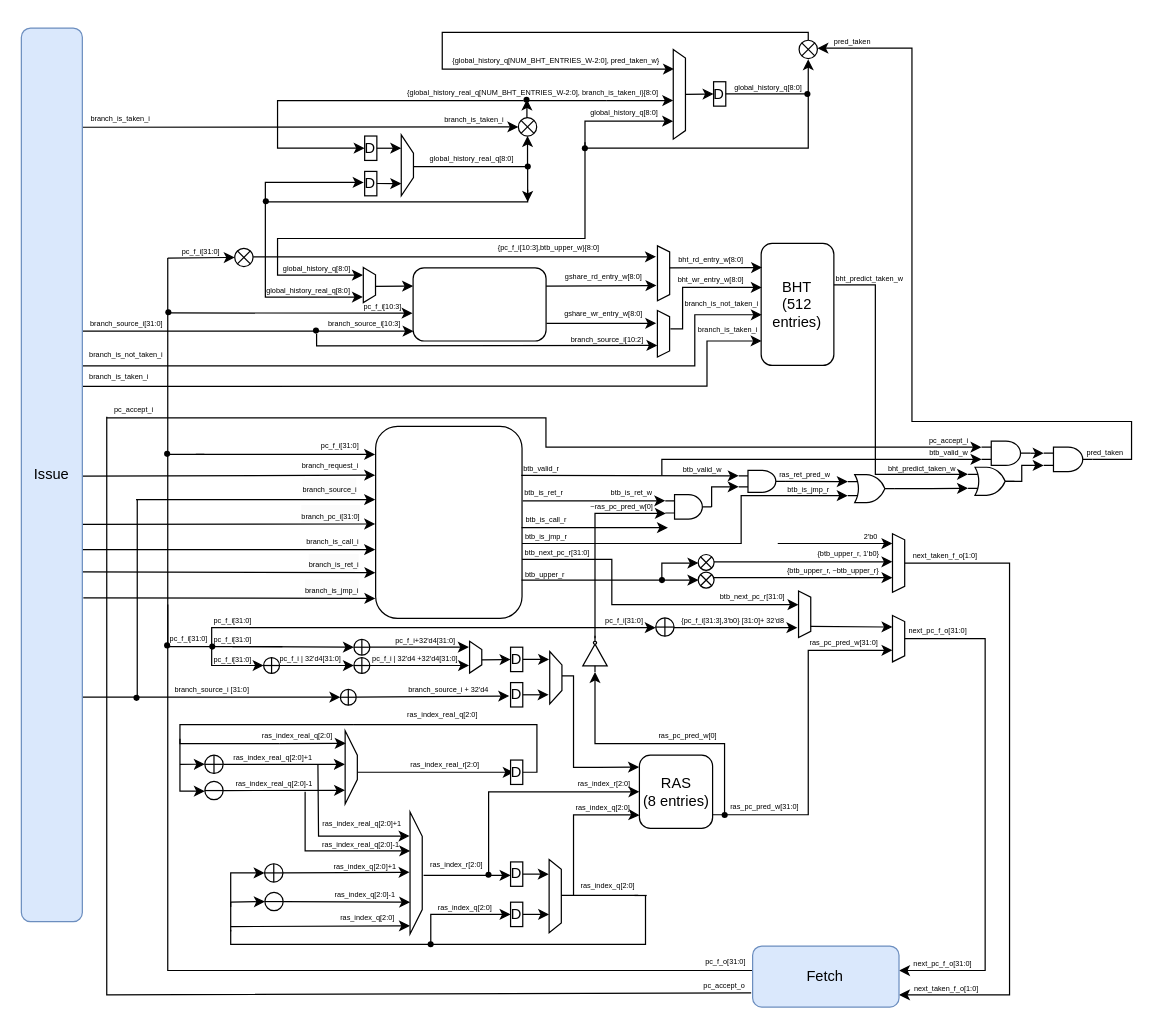
The diagram is 1163 pixels wide and 1028 high, and some of its shapes have lost their labels. The shapes that lost their labels are listed below. From the top down, each one's centre as x and y in pixels, then its label:
the point at 479,304: Gshare
the point at 448,521: BTB RAM (256 entries)
